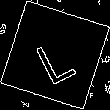L_NW: (29, 25, 81, 85)
